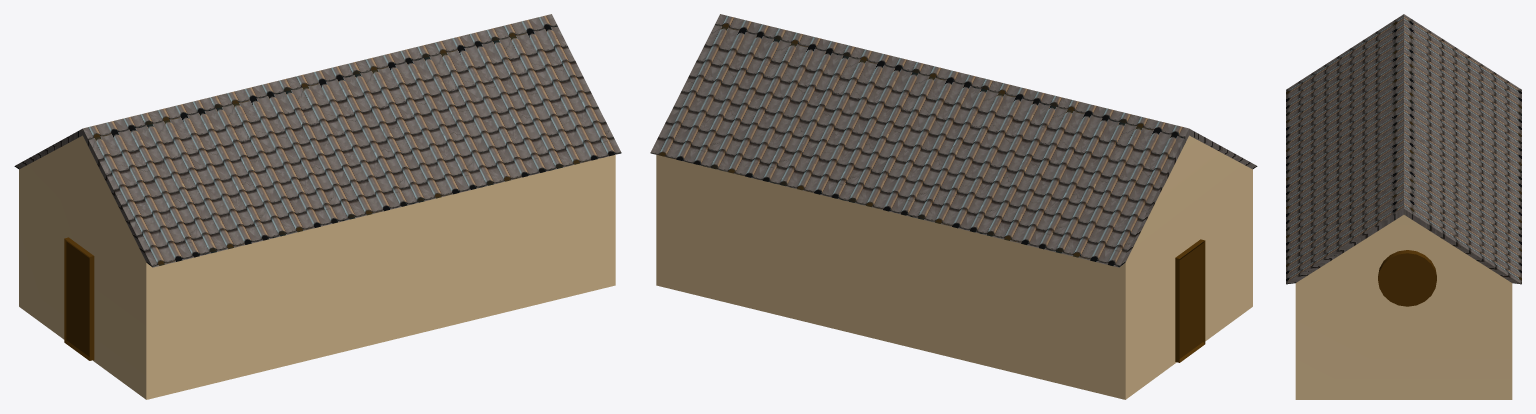
File: workshop.fbx
3 views of the same model, side by side, from view 1: azimuth 30°, elevation 25°; view 2: azimuth 150°, elevation 25°; view 3: azimuth 270°, elevation 25° (orthographic). The views are drawn at different scales.
Parts seen in each view (by area): view 1: pCylinder2; view 2: pCylinder2; view 3: pCylinder2.
Boxes of the visible parts, left/top/right/bottom form: pCylinder2: left=14, top=14, right=621, bottom=399; pCylinder2: left=650, top=14, right=1257, bottom=399; pCylinder2: left=1286, top=14, right=1521, bottom=399.
Size of the model in its own units: 3.67 by 1.64 by 1.83.
3 materials, 1 textured.
